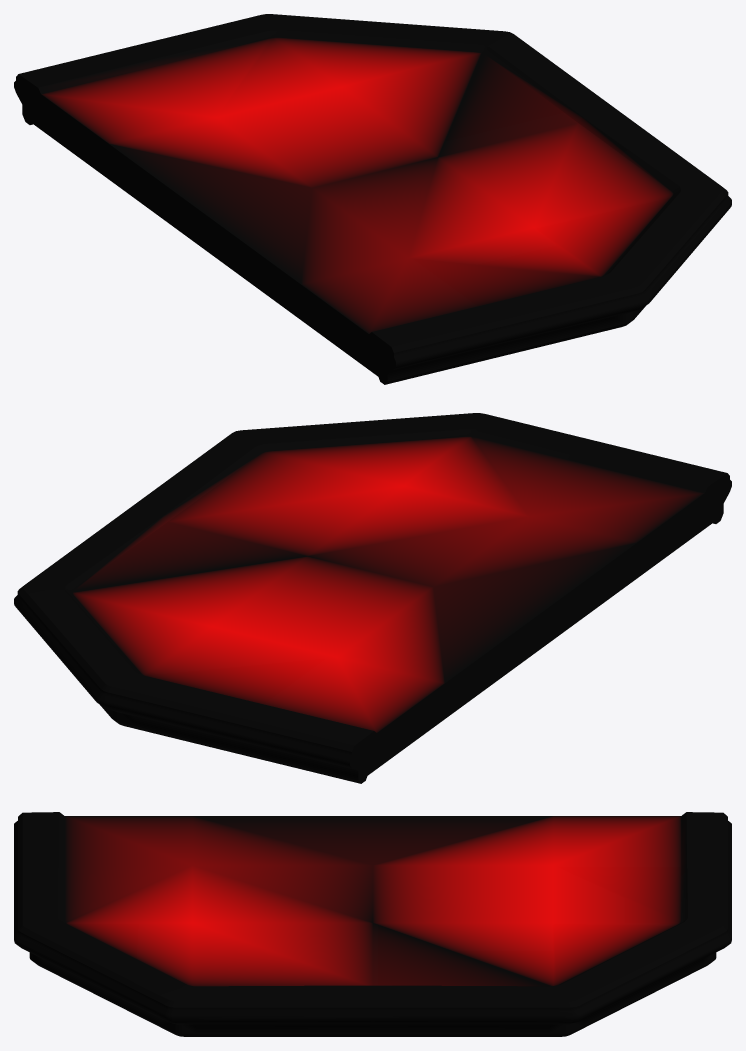
Rendered from SM_Balcony_01a.fbx.
3 renders of one model, top to bottom at view 1: azimuth 30°, elevation 25°; view 2: azimuth 150°, elevation 25°; view 3: azimuth 270°, elevation 25°, orthographic. The views are drawn at different scales.
Visible parts, largest first — view 1: SM_Balcony_01a_LOD0; view 2: SM_Balcony_01a_LOD0; view 3: SM_Balcony_01a_LOD0.
Boxes of the visible parts, x1,y1,x2,y2 form: SM_Balcony_01a_LOD0: (14,14,731,384); SM_Balcony_01a_LOD0: (14,413,731,783); SM_Balcony_01a_LOD0: (14,812,731,1036).
Bounding box in the file's own units: 1025 × 1618 × 102.
